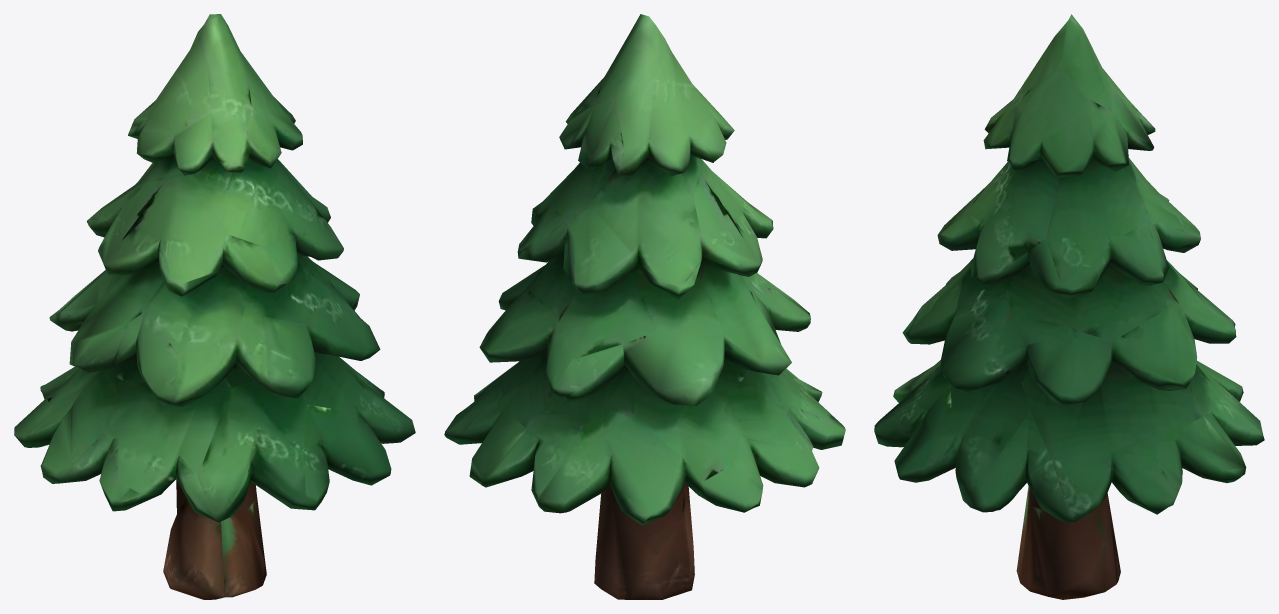
Rendered from tanenbaum_pbr.glb.
The picture shows the model from 3 angles, left to right: view 1: azimuth 30°, elevation 25°; view 2: azimuth 150°, elevation 25°; view 3: azimuth 270°, elevation 25°; orthographic projection.
Parts seen in each view (by area): view 1: model.016; view 2: model.016; view 3: model.016.
Part boxes in pixels (x1,y1,x2,y2): model.016: (14,14,415,599); model.016: (444,14,845,599); model.016: (874,14,1264,599).
Bounding box in the file's own units: 1.27 × 2.02 × 1.27.
1 material, 1 textured.
